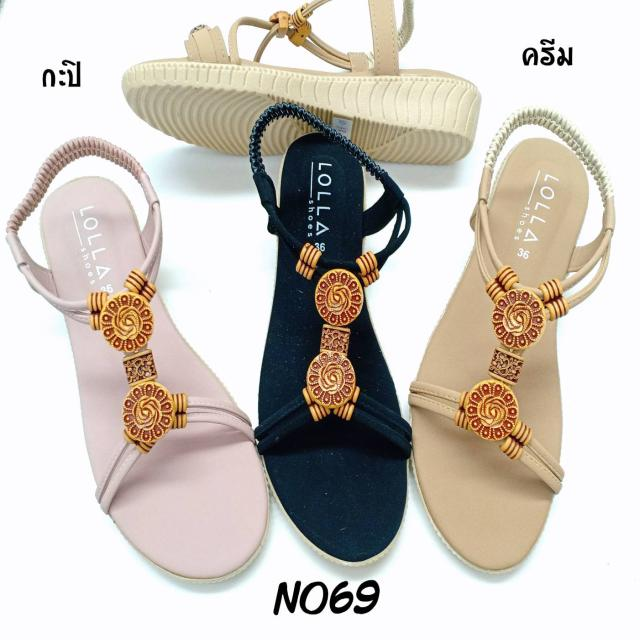black: (260, 144, 404, 558)
cream: (410, 136, 590, 567)
kapi: (42, 180, 270, 584)
